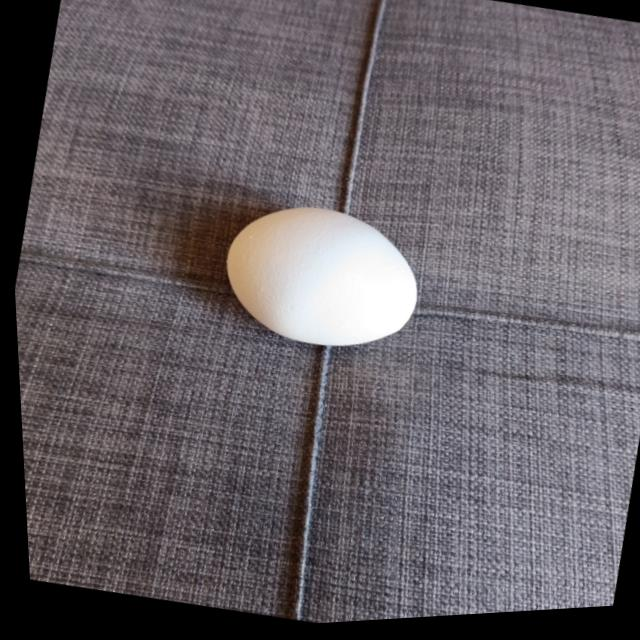egg: (204, 188, 431, 370)
